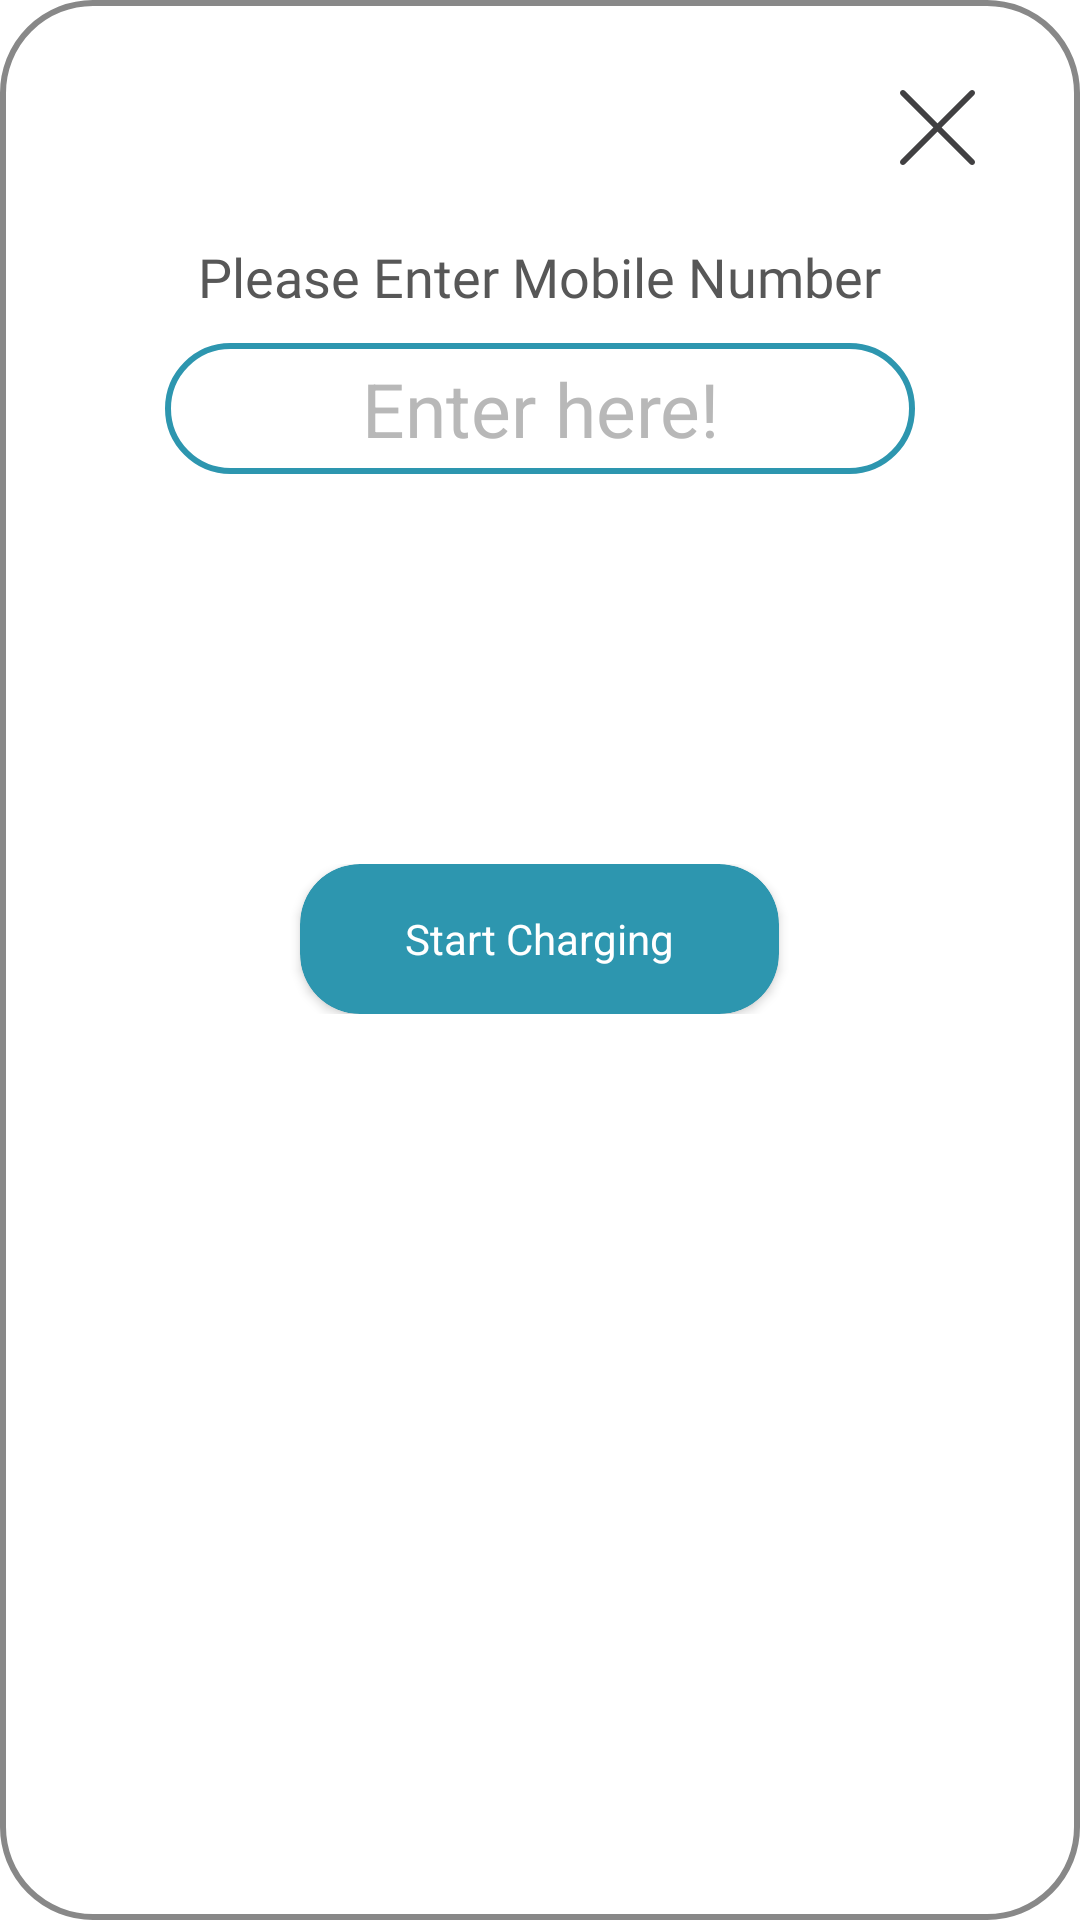

Where icons sit on this 1080px×1920px app screen, as box(x1, y1, x2, y2):
close: box(900, 90, 975, 165)
